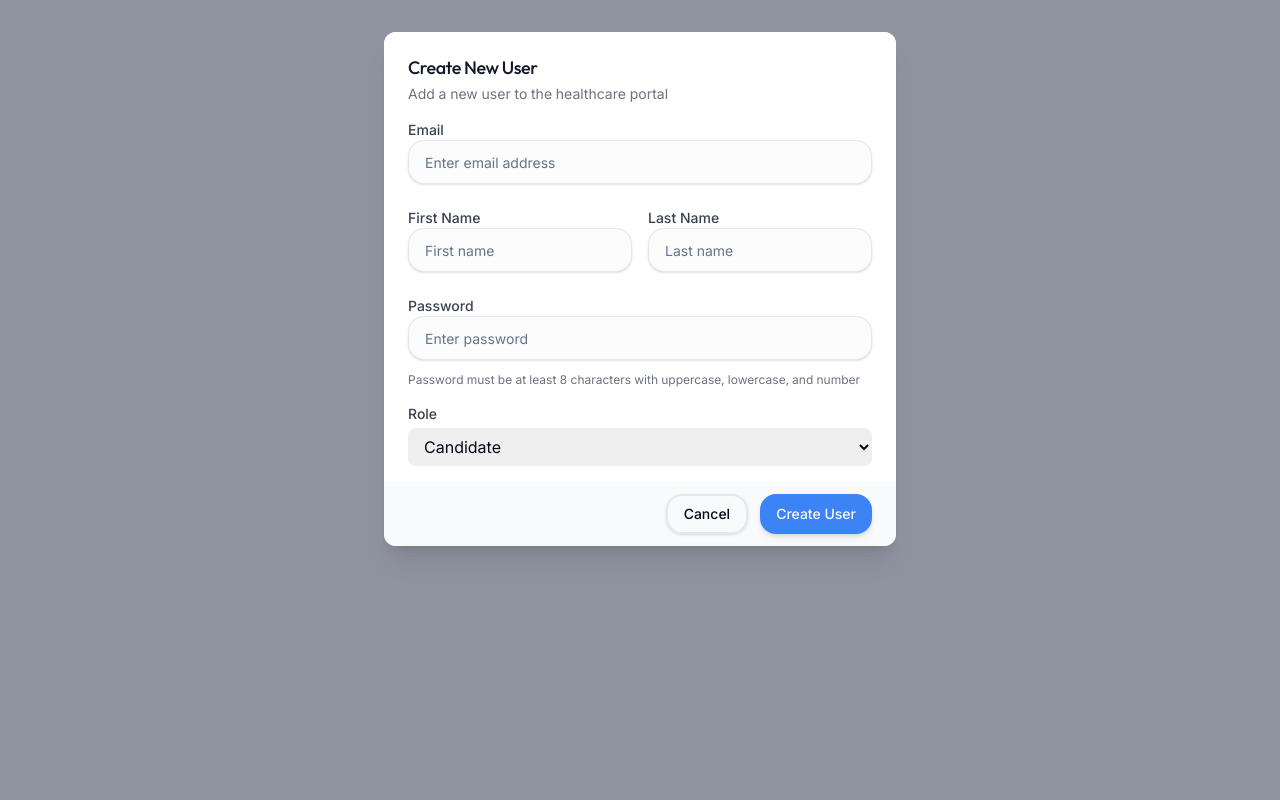
Test: CreateUserModal › validates required fields
Click the button "Create User". click: x=816, y=514
box: top-left (760, 494), bottom-right (872, 534)
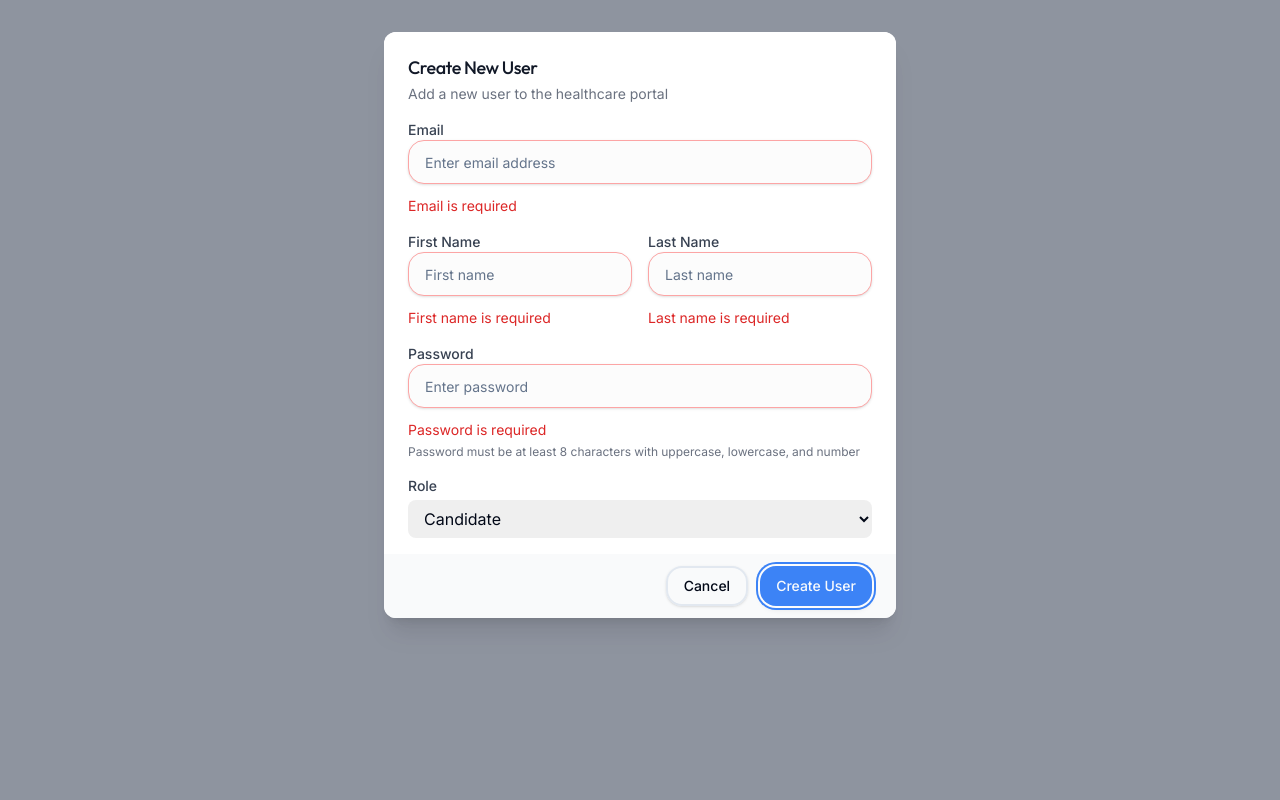
Check: the text "Email is required" is shown, box top-left (408, 197), bottom-right (517, 214)
Check: the text "First name is required" is shown, box top-left (408, 309), bottom-right (551, 326)
Check: the text "Last name is required" is shown, box top-left (648, 309), bottom-right (790, 326)
